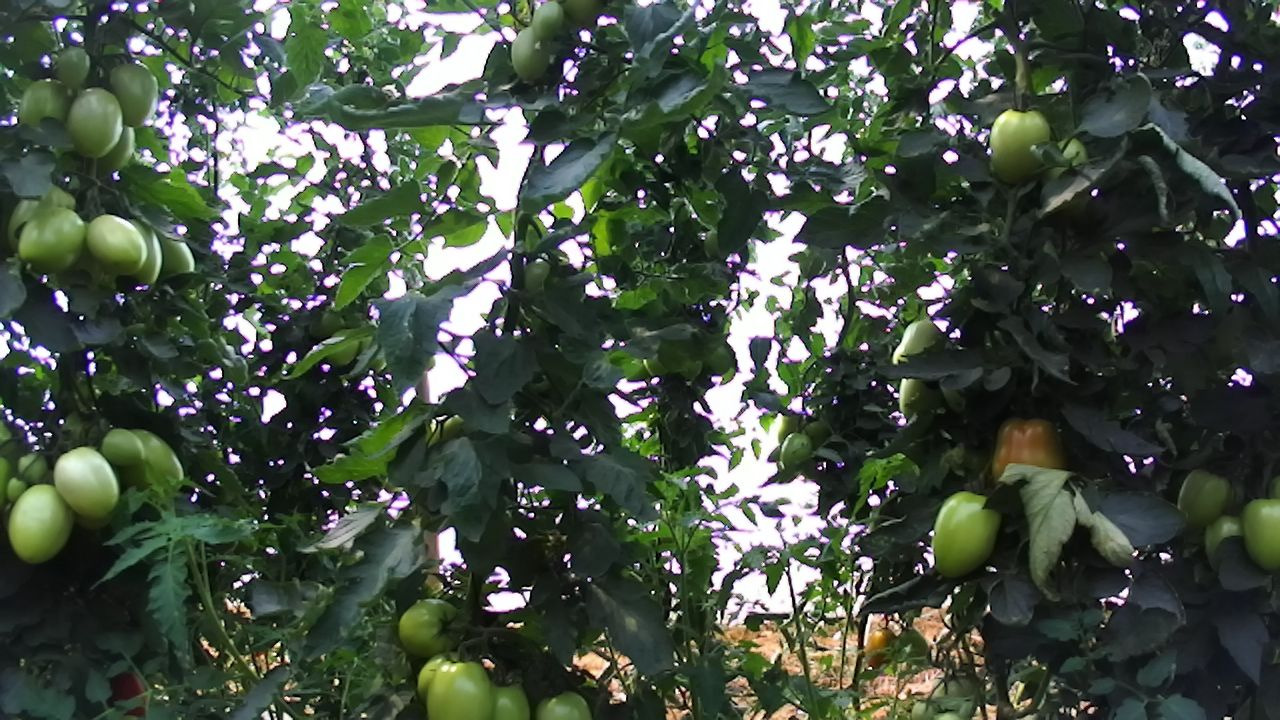tomato: (927, 488, 1006, 583), (988, 407, 1073, 486), (3, 480, 80, 567), (984, 103, 1052, 189), (50, 443, 122, 522), (14, 203, 89, 276), (422, 654, 499, 720), (394, 594, 467, 660), (62, 83, 125, 158), (84, 211, 152, 279), (1173, 464, 1237, 528), (108, 62, 162, 129), (1237, 495, 1280, 575), (98, 424, 146, 470), (50, 42, 94, 88), (13, 444, 50, 484)
